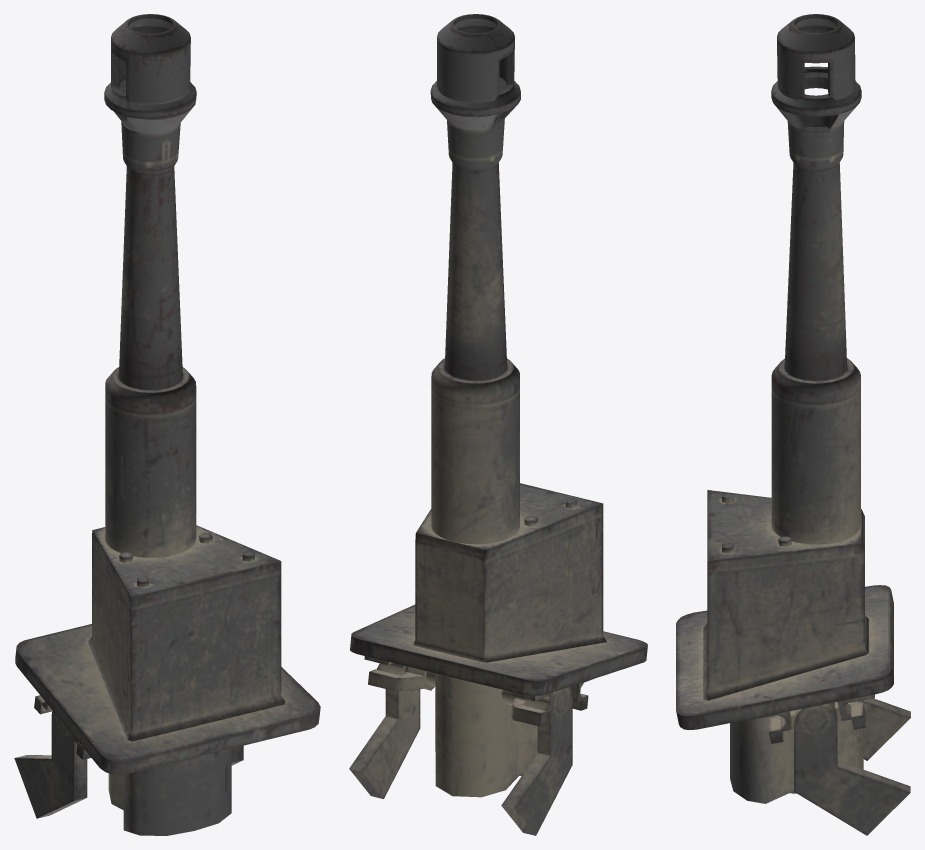
Rendered from Gun_04.glb.
3 views of the same model, side by side, from view 1: azimuth 30°, elevation 25°; view 2: azimuth 150°, elevation 25°; view 3: azimuth 270°, elevation 25° (orthographic). The views are drawn at different scales.
Parts seen in each view (by area): view 1: set_0_group_0; view 2: set_0_group_0; view 3: set_0_group_0.
Part boxes in pixels (x1,y1,x2,y2): set_0_group_0: (14, 14, 320, 835); set_0_group_0: (349, 14, 647, 835); set_0_group_0: (676, 14, 910, 835).
Size of the model in its own units: 0.8166 by 2.86 by 0.7856.
Materials: 1 (1 with a texture image).
